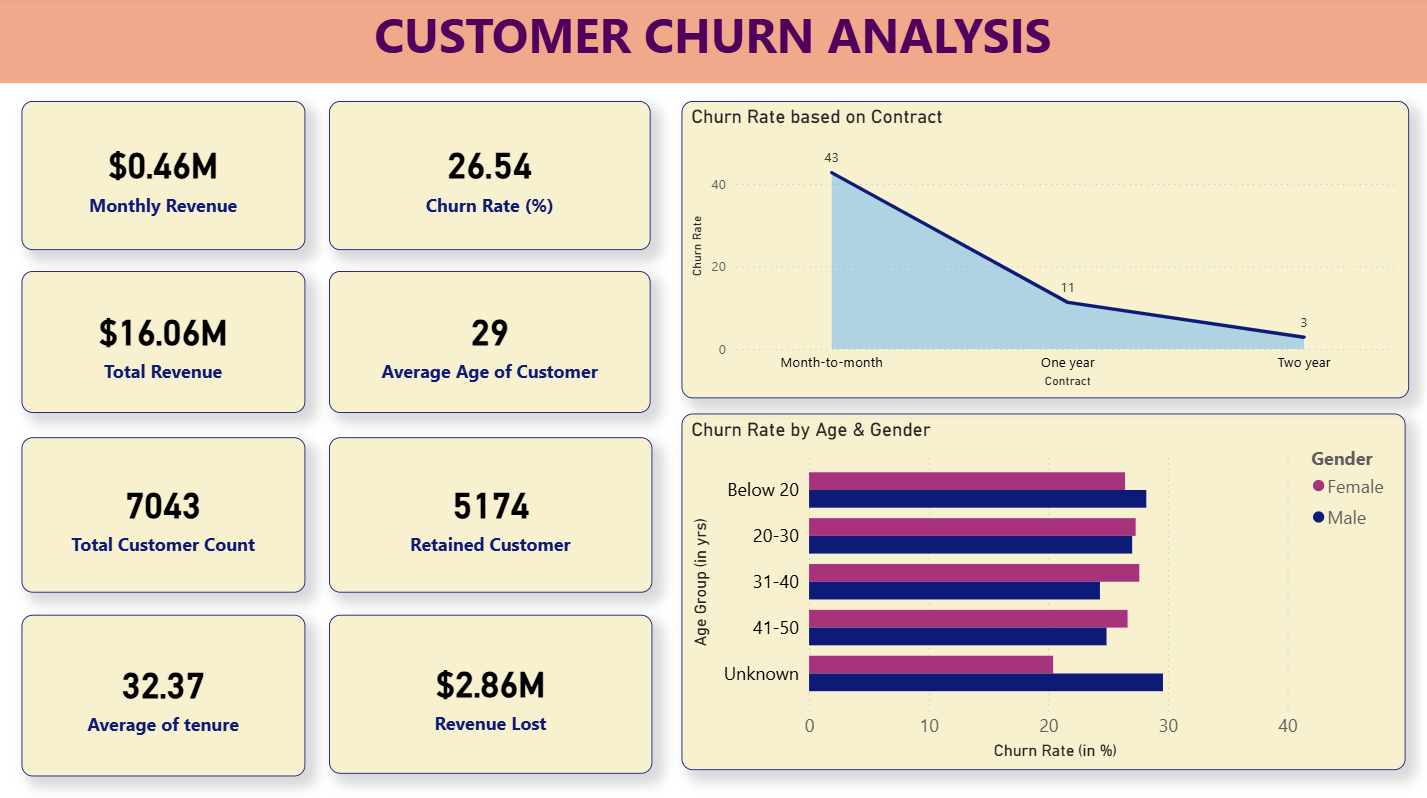

Layout of this report page (visuals, bound fields, positions):
{"tool":"powerbi","page":{"name":"Page 1","canvas":[1280,720],"ordinal":0},"visuals":[{"type":"textbox","box":[0,0,1280.3,77.5],"z":0},{"type":"card","fields":{"Values":["Avg(DimCustomer.Age(in yrs))"]},"box":[298.8,244.4,286.5,126.3],"z":1000},{"type":"card","fields":{"Values":["FactChurn.Churn_rate"]},"box":[298.8,93.7,286.5,133.1],"z":2000},{"type":"card","fields":{"Values":["Sum(FactChurn.MonthlyCharges)"]},"box":[24.4,93.7,252.6,133.1],"z":3000},{"type":"card","title":"Total Re","fields":{"Values":["Sum(FactChurn.TotalCharges)"]},"box":[24.4,244.4,252.6,126.3],"z":4000},{"type":"card","fields":{"Values":["FactChurn.Revenue_lost"]},"box":[298.8,551.3,287.9,141.2],"z":5000},{"type":"clusteredBarChart","title":"Churn Rate by Age & Gender","fields":{"Category":["DimCustomer.Age group (in yrs)"],"Y":["FactChurn.Churn_rate"],"Series":["DimCustomer.gender"]},"box":[612.4,372.1,645,317.8],"z":6000},{"type":"card","fields":{"Values":["Avg(FactChurn.tenure)"]},"box":[24.4,551.3,252.6,143.9],"z":7000},{"type":"card","fields":{"Values":["FactChurn.Total_customers"]},"box":[24.4,392.4,252.6,138.5],"z":8000},{"type":"card","fields":{"Values":["FactChurn.Retained_Customers"]},"box":[298.8,392.4,287.9,138.5],"z":9000},{"type":"areaChart","title":"Churn Rate based on Contract","fields":{"Category":["FactChurn.Contract"],"Y":["FactChurn.Churn_rate"]},"box":[612.4,93.7,647.7,264.8],"z":10000}]}

Visuals, with their boxes in screenshot pixels (x1, y1, x2, y2), scaled from the page's 1280x720 canvas onto the 1427x798 screenshot:
textbox: <bbox>0, 0, 1426, 86</bbox>
card - Avg(DimCustomer.Age(in yrs)): <bbox>333, 271, 653, 411</bbox>
card - FactChurn.Churn_rate: <bbox>333, 104, 653, 251</bbox>
card - Sum(FactChurn.MonthlyCharges): <bbox>27, 104, 309, 251</bbox>
"Total Re" card: <bbox>27, 271, 309, 411</bbox>
card - FactChurn.Revenue_lost: <bbox>333, 611, 654, 768</bbox>
"Churn Rate by Age & Gender" clusteredBarChart: <bbox>683, 412, 1402, 765</bbox>
card - Avg(FactChurn.tenure): <bbox>27, 611, 309, 771</bbox>
card - FactChurn.Total_customers: <bbox>27, 435, 309, 588</bbox>
card - FactChurn.Retained_Customers: <bbox>333, 435, 654, 588</bbox>
"Churn Rate based on Contract" areaChart: <bbox>683, 104, 1405, 397</bbox>
